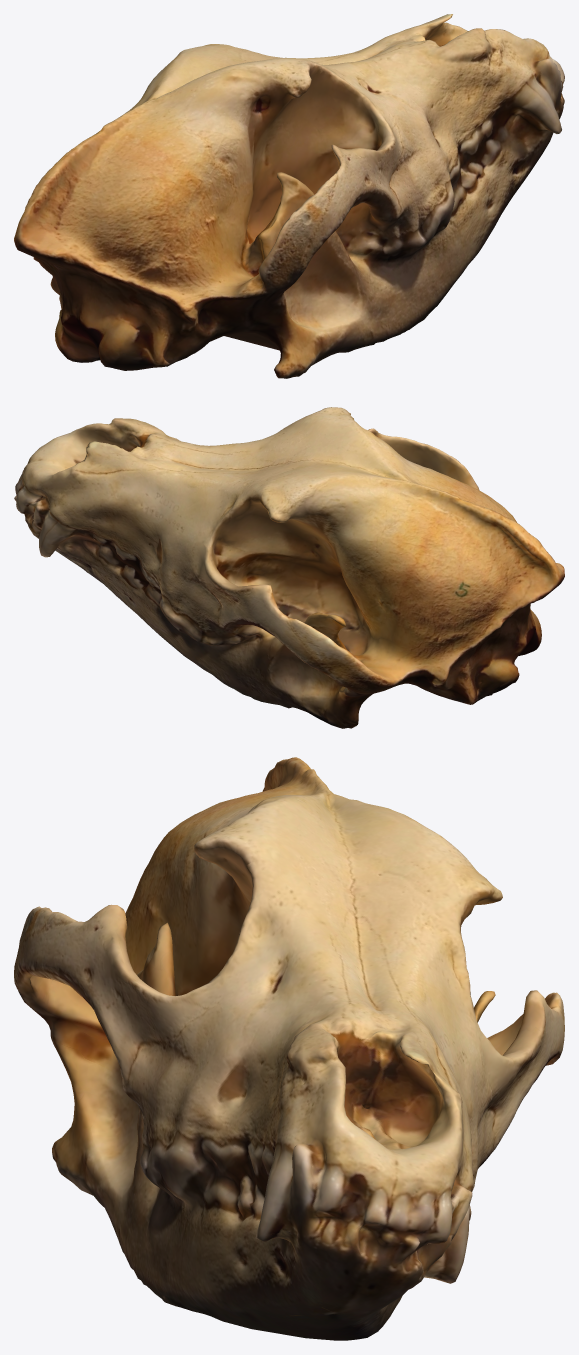
The model's file is Cráneo de perro.glb.
3 renders of one model, top to bottom at view 1: azimuth 30°, elevation 25°; view 2: azimuth 150°, elevation 25°; view 3: azimuth 270°, elevation 25°, orthographic. The views are drawn at different scales.
Visible parts, largest first — view 1: 3DModel; view 2: 3DModel; view 3: 3DModel.
Part boxes in pixels (x1,y1,x2,y2): 3DModel: (14, 14, 564, 378); 3DModel: (14, 407, 564, 728); 3DModel: (14, 757, 564, 1340).
Size of the model in its own units: 0.8008 by 0.4084 by 0.443.
Materials: 1 (1 with a texture image).
